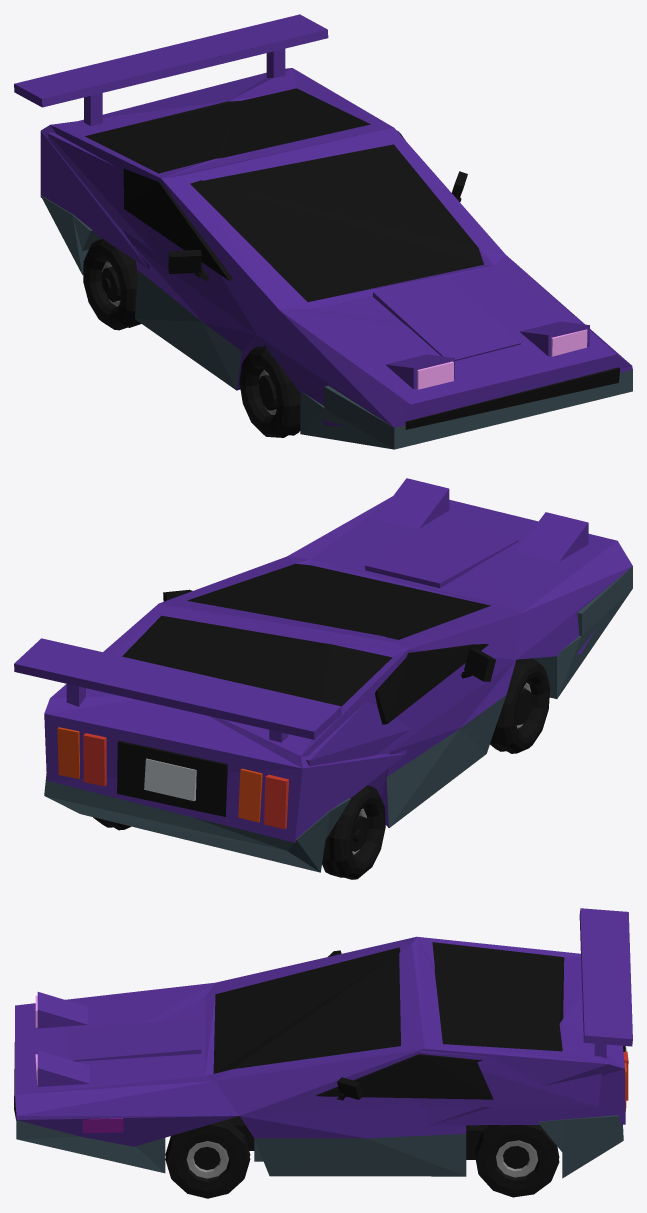
3 renders of one model, top to bottom at view 1: azimuth 30°, elevation 25°; view 2: azimuth 150°, elevation 25°; view 3: azimuth 270°, elevation 25°, orthographic. The views are drawn at different scales.
Parts seen in each view (by area): view 1: node_MeshObject1549190144-PolyPaper2, node_MeshObject1848351744-PolyGem25; view 2: node_MeshObject1549190144-PolyPaper2; view 3: node_MeshObject1549190144-PolyPaper2.
Boxes of the visible parts, <box> form: node_MeshObject1549190144-PolyPaper2: <box>14,14,632,449</box>; node_MeshObject1848351744-PolyGem25: <box>417,329,587,389</box>; node_MeshObject1549190144-PolyPaper2: <box>14,478,632,879</box>; node_MeshObject1549190144-PolyPaper2: <box>14,908,632,1198</box>.
Size of the model in its own units: 0.7857 by 0.4903 by 1.53.
